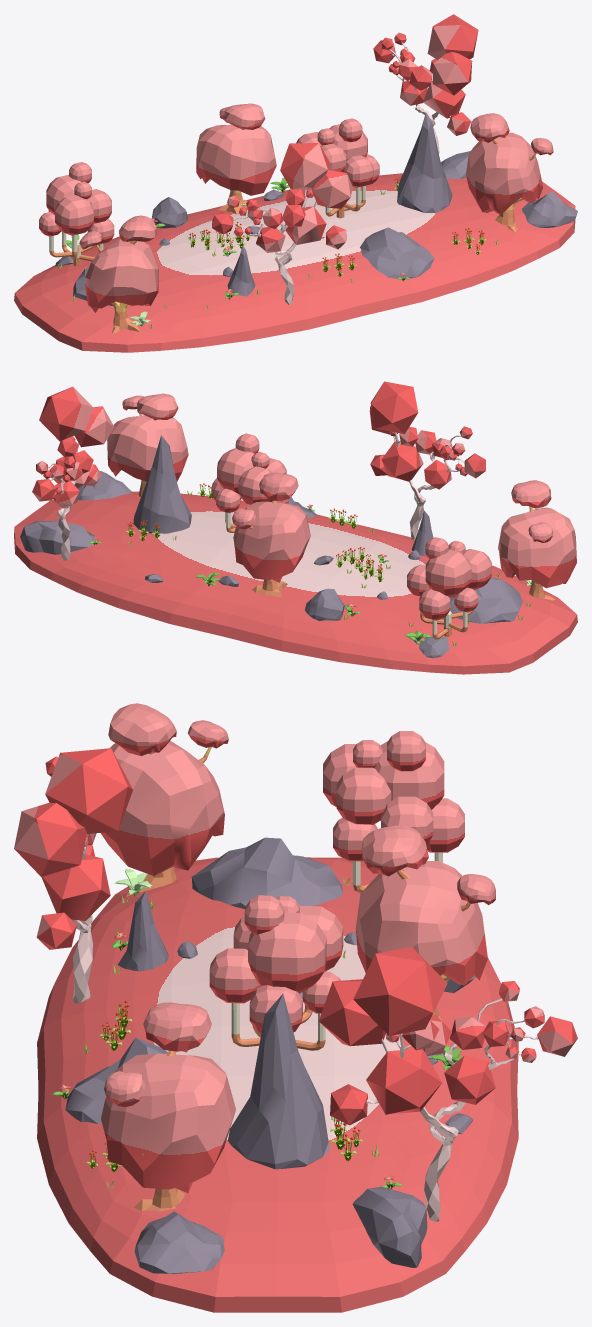
File: Spring_wall.fbx
3 views of the same model, one above another, from view 1: azimuth 30°, elevation 25°; view 2: azimuth 150°, elevation 25°; view 3: azimuth 270°, elevation 25° (orthographic). The views are drawn at different scales.
Parts seen in each view (by area): view 1: Tree.176; view 2: Tree.176; view 3: Tree.176.
Part boxes in pixels (left/top/right/bottom): Tree.176: left=14, top=14, right=577, bottom=352; Tree.176: left=14, top=381, right=577, bottom=674; Tree.176: left=14, top=703, right=577, bottom=1312.
Size of the model in its own units: 6325 by 2020 by 3432.
